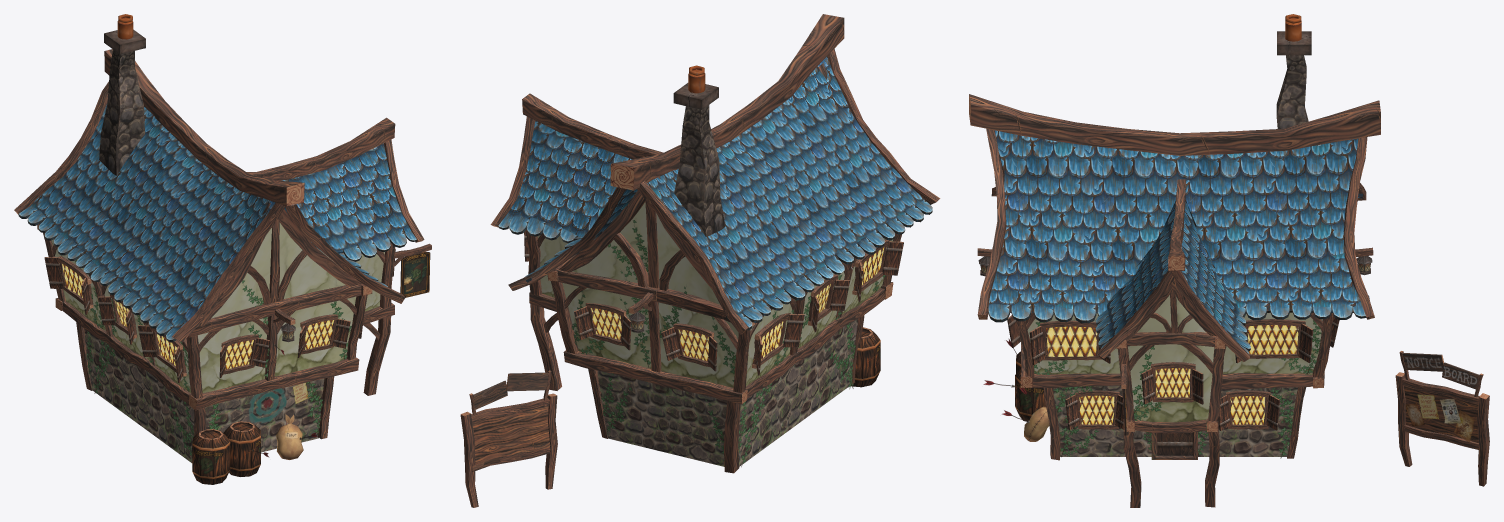
The picture shows the model from 3 angles, left to right: view 1: azimuth 30°, elevation 25°; view 2: azimuth 150°, elevation 25°; view 3: azimuth 270°, elevation 25°; orthographic projection. The views are drawn at different scales.
Parts seen in each view (by area): view 1: Object003_Material #246_0, Object003_wood_0, Object003_Material #377_0, Object003_Material #319_0, Object003_Material #492_0, Object003_Material #1116_0, Object003_Material #320_0, Object003_Material #413_0, Object003_Material #747_0, Object003_Material #1139_0; view 2: Object003_wood_0, Object003_Material #246_0, Object003_Material #319_0, Object003_Material #377_0, Object003_Material #492_0, Object003_Material #1116_0, Object003_Material #747_0, Object003_Material #413_0, Object003_Material #320_0; view 3: Object003_Material #246_0, Object003_wood_0, Object003_Material #492_0, Object003_Material #377_0, Object003_Material #320_0, Object003_Material #319_0, Object003_Material #413_0, Object003_Material #1116_0, Object003_Material #747_0, Object003_Material #1139_0.
Part boxes in pixels (<box>): Object003_Material #246_0: <box>31,104,410,330</box>; Object003_wood_0: <box>14,49,431,439</box>; Object003_Material #377_0: <box>51,223,384,392</box>; Object003_Material #319_0: <box>84,329,324,462</box>; Object003_Material #492_0: <box>18,14,416,342</box>; Object003_Material #1116_0: <box>192,421,303,484</box>; Object003_Material #320_0: <box>62,252,430,369</box>; Object003_Material #413_0: <box>44,248,395,382</box>; Object003_Material #747_0: <box>75,259,351,456</box>; Object003_Material #1139_0: <box>237,344,317,457</box>; Object003_wood_0: <box>460,14,940,507</box>; Object003_Material #246_0: <box>508,56,924,315</box>; Object003_Material #319_0: <box>597,319,857,466</box>; Object003_Material #377_0: <box>537,202,892,387</box>; Object003_Material #492_0: <box>498,65,932,332</box>; Object003_Material #1116_0: <box>472,327,880,465</box>; Object003_Material #747_0: <box>572,220,893,467</box>; Object003_Material #413_0: <box>524,231,903,375</box>; Object003_Material #320_0: <box>591,247,884,363</box>; Object003_Material #246_0: <box>987,130,1362,340</box>; Object003_wood_0: <box>969,94,1489,507</box>; Object003_Material #492_0: <box>978,14,1372,353</box>; Object003_Material #377_0: <box>1027,295,1322,425</box>; Object003_Material #320_0: <box>1046,325,1298,435</box>; Object003_Material #319_0: <box>1053,385,1298,456</box>; Object003_Material #413_0: <box>1007,315,1339,459</box>; Object003_Material #1116_0: <box>1015,351,1479,443</box>; Object003_Material #747_0: <box>1034,320,1321,458</box>; Object003_Material #1139_0: <box>983,338,1438,422</box>.
Size of the model in its own units: 1465 by 1777 by 1912.
Materials: 13 (13 with a texture image).
